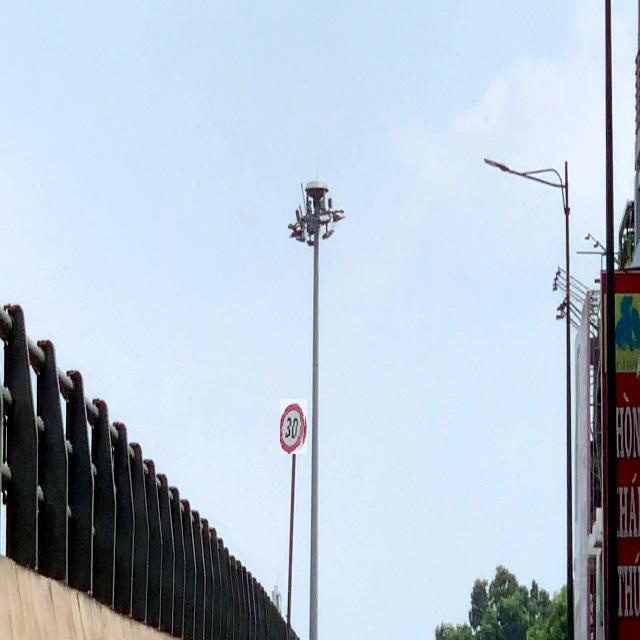bien_cam: (280, 399, 307, 454)
